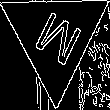M_SW: (27, 4, 84, 71)
